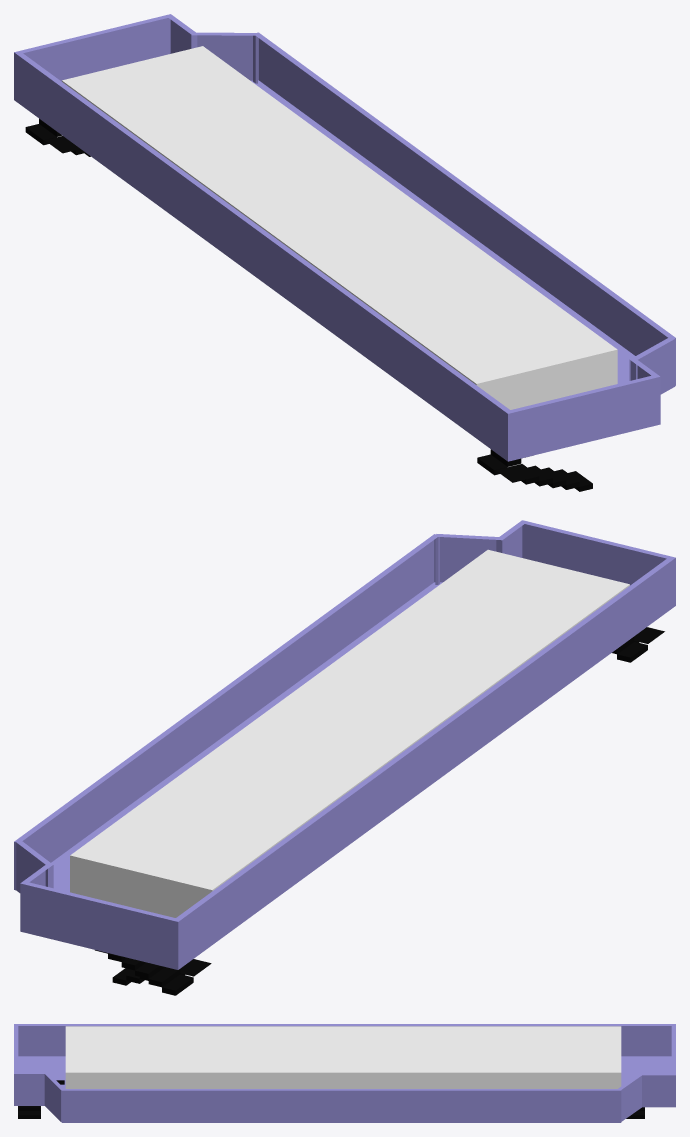
The picture shows the model from 3 angles, top to bottom: view 1: azimuth 30°, elevation 25°; view 2: azimuth 150°, elevation 25°; view 3: azimuth 270°, elevation 25°; orthographic projection. The views are drawn at different scales.
Parts seen in each view (by area): view 1: object, ゼミ51, ゼミ55, ゼミ53, ゼミ52, ゼミ54, ゼミ56, 研究室15, 研究室14, 研究室13, 階段_3_3_2, 階段_3_3_1; view 2: object, 研究室15, ゼミ53, ゼミ54, ゼミ52, ゼミ55, ゼミ56, ゼミ51, 研究室14, 研究室13, 階段_3_3_1, 階段_3_3_2; view 3: object, ゼミ55, ゼミ54, ゼミ53, ゼミ52, ゼミ56, 研究室15, ゼミ51, 研究室14, 研究室13, 階段_3_3_2.
Boxes of the visible parts, x1=… form: object: x1=14, y1=14, x2=675, y2=461; ゼミ51: x1=431, y1=316, x2=617, y2=409; ゼミ55: x1=241, y1=177, x2=428, y2=247; ゼミ53: x1=336, y1=247, x2=524, y2=316; ゼミ52: x1=383, y1=281, x2=571, y2=351; ゼミ54: x1=288, y1=212, x2=476, y2=281; ゼミ56: x1=195, y1=143, x2=381, y2=212; 研究室15: x1=62, y1=46, x2=247, y2=114; 研究室14: x1=107, y1=79, x2=292, y2=147; 研究室13: x1=152, y1=112, x2=335, y2=178; 階段_3_3_2: x1=477, y1=449, x2=592, y2=491; 階段_3_3_1: x1=25, y1=118, x2=90, y2=156; object: x1=14, y1=520, x2=675, y2=969; 研究室15: x1=70, y1=822, x2=257, y2=917; ゼミ53: x1=346, y1=618, x2=536, y2=688; ゼミ54: x1=299, y1=653, x2=488, y2=723; ゼミ52: x1=395, y1=583, x2=584, y2=653; ゼミ55: x1=251, y1=688, x2=440, y2=758; ゼミ56: x1=204, y1=723, x2=392, y2=792; ゼミ51: x1=443, y1=549, x2=629, y2=618; 研究室14: x1=116, y1=789, x2=303, y2=857; 研究室13: x1=161, y1=757, x2=346, y2=824; 階段_3_3_1: x1=95, y1=950, x2=211, y2=995; 階段_3_3_2: x1=612, y1=627, x2=664, y2=662; object: x1=14, y1=1024, x2=675, y2=1122; ゼミ55: x1=317, y1=1026, x2=381, y2=1088; ゼミ54: x1=253, y1=1026, x2=317, y2=1088; ゼミ53: x1=190, y1=1026, x2=253, y2=1088; ゼミ52: x1=126, y1=1026, x2=189, y2=1088; ゼミ56: x1=381, y1=1026, x2=442, y2=1088; 研究室15: x1=560, y1=1026, x2=621, y2=1088; ゼミ51: x1=65, y1=1026, x2=126, y2=1088; 研究室14: x1=500, y1=1026, x2=560, y2=1088; 研究室13: x1=443, y1=1026, x2=500, y2=1088; 階段_3_3_2: x1=18, y1=1080, x2=64, y2=1118.
Bounding box in the file's own units: 0.5695 × 0.2628 × 2.39.
